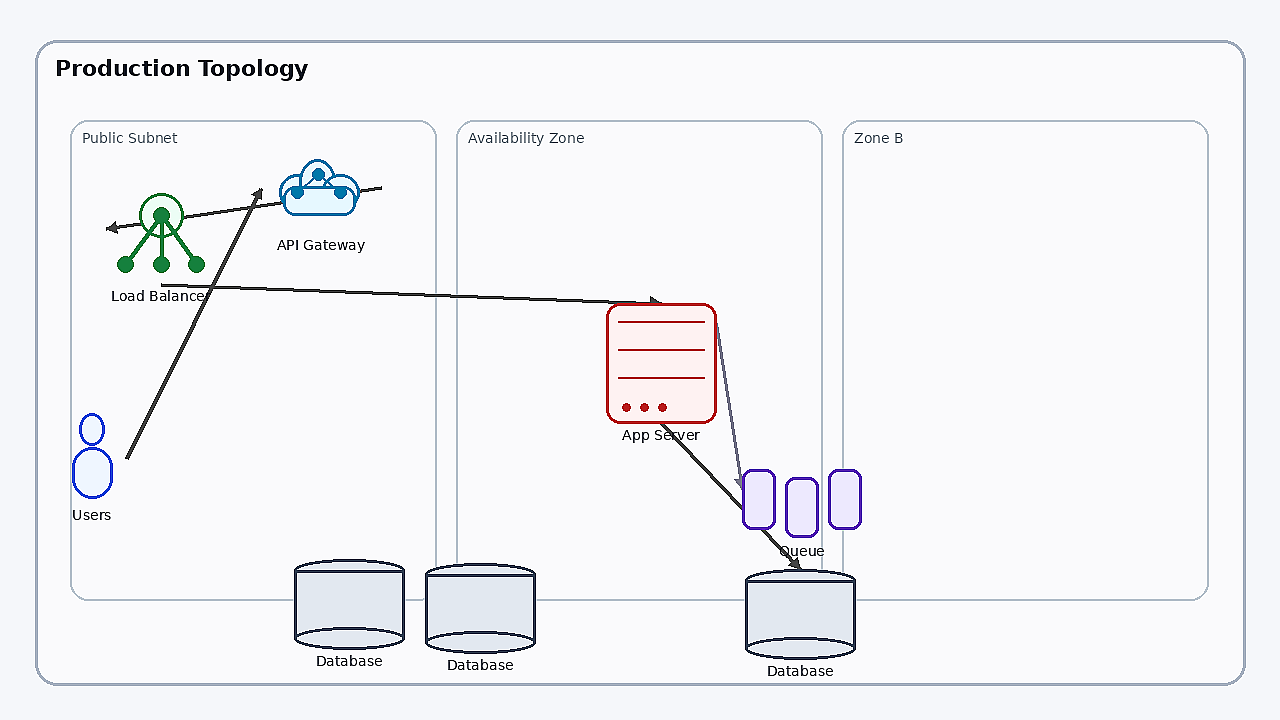API Gateway: (261, 143, 381, 233)
Application Server: (606, 303, 716, 423)
Database: (425, 563, 535, 653), (294, 559, 404, 649), (745, 569, 855, 659)
Load Balancer: (106, 174, 216, 284)
Message Queue: (742, 469, 862, 539)
User: (57, 413, 127, 503)
